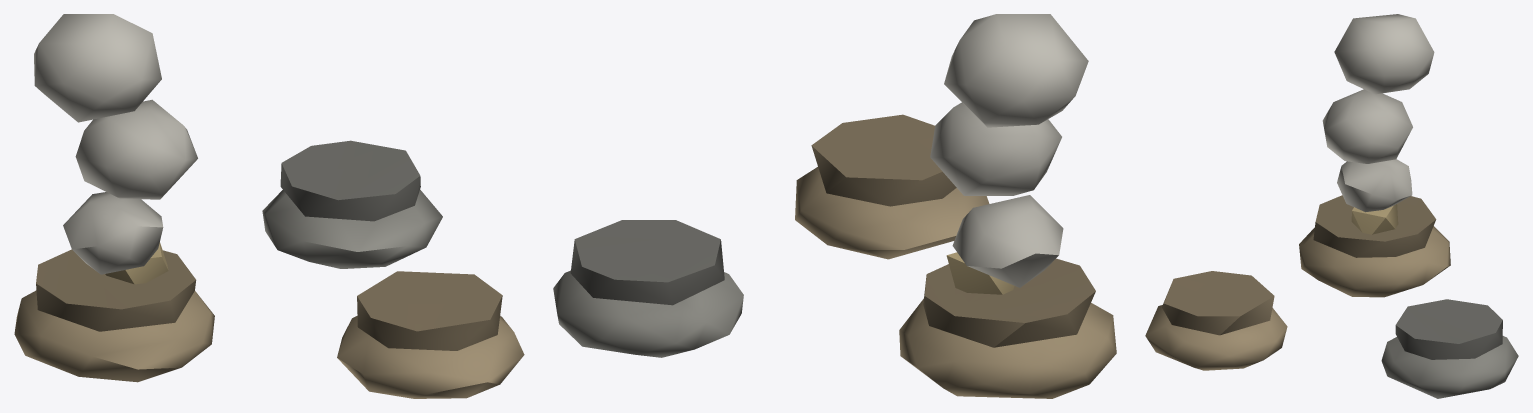
Rendered from dish_stones_a_lod2.glb.
3 views of the same model, side by side, from view 1: azimuth 30°, elevation 25°; view 2: azimuth 150°, elevation 25°; view 3: azimuth 270°, elevation 25° (orthographic). The views are drawn at different scales.
Visible parts, largest first — view 1: Surface.001; view 2: Surface.001; view 3: Surface.001.
Boxes of the visible parts, x1=… form: Surface.001: x1=14, y1=14, x2=524, y2=398; Surface.001: x1=553, y1=14, x2=1116, y2=398; Surface.001: x1=1145, y1=14, x2=1518, y2=398.
Size of the model in its own units: 2.13 by 1.54 by 2.01.
